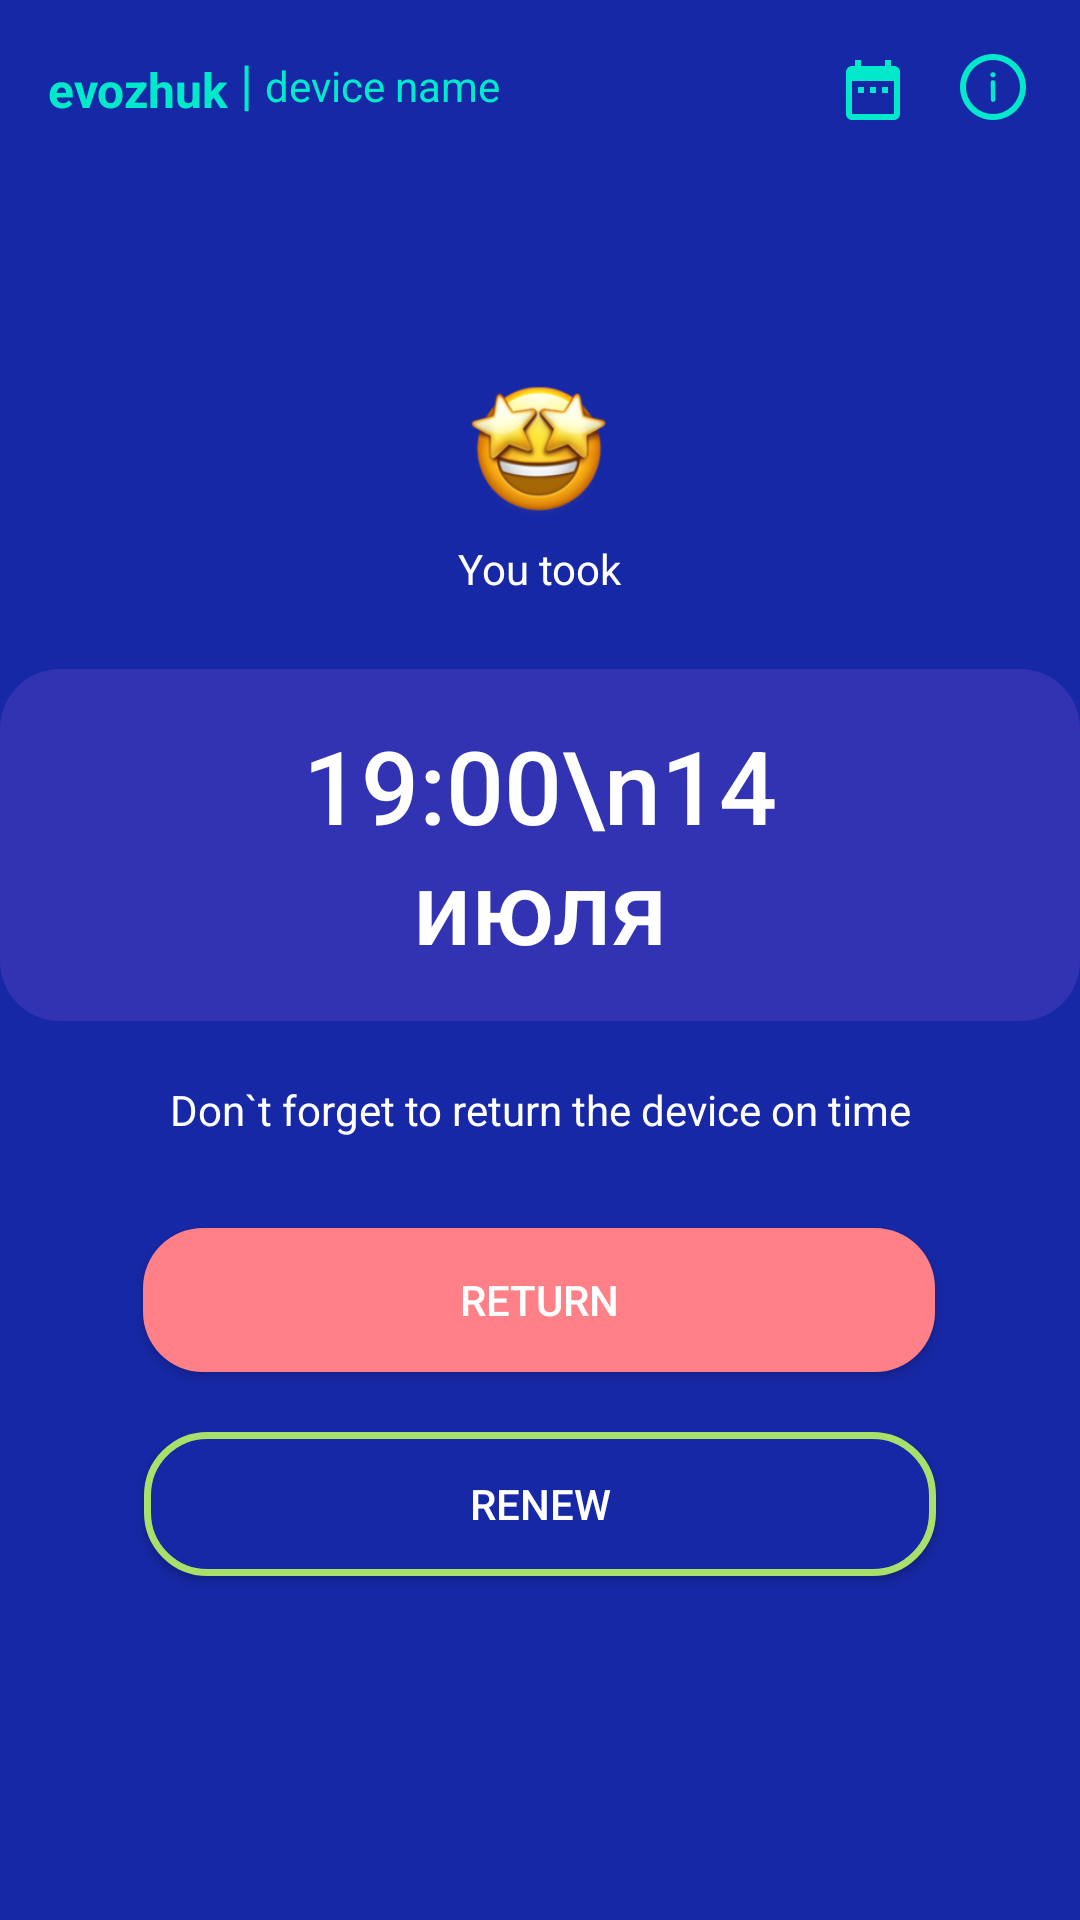

Point at icon controls on the screen. Image size 1080 x 1920, points as [x,y].
date range: [873,90]
face with star eyes: [538,449]
info: [993,87]
